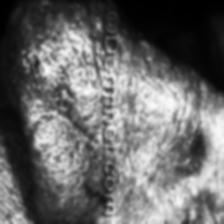Non-Cancerous Skin Condition: (0, 0, 103, 224), (168, 112, 214, 207)
